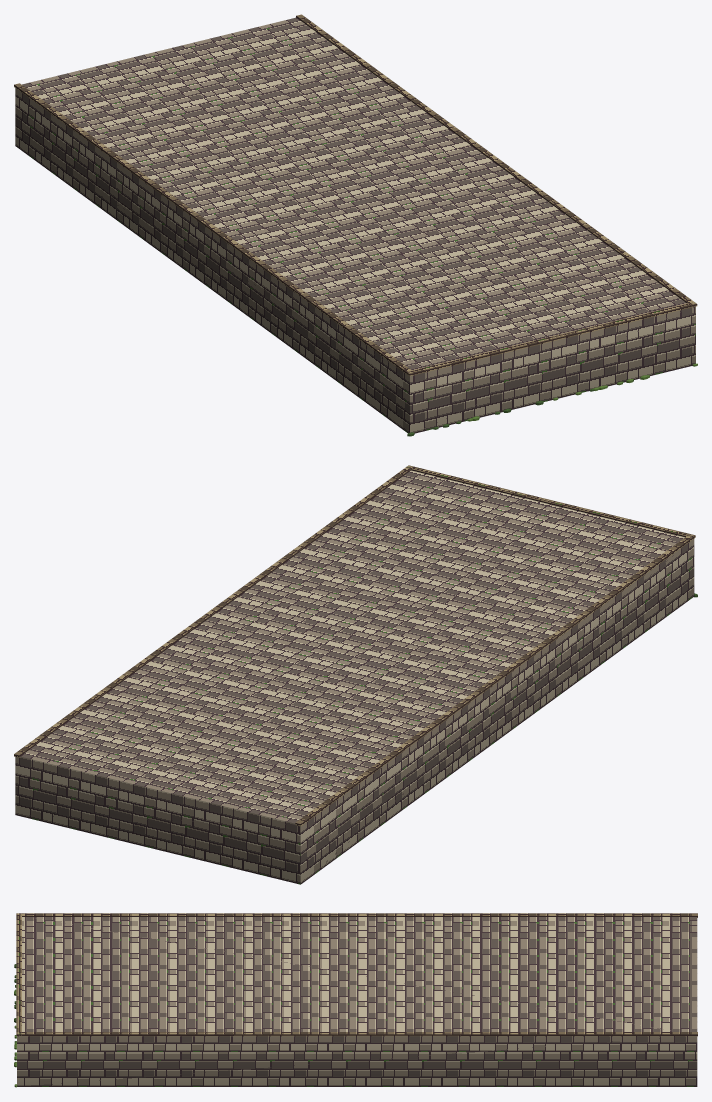
Rendered from scene_wall_e.glb.
3 renders of one model, top to bottom at view 1: azimuth 30°, elevation 25°; view 2: azimuth 150°, elevation 25°; view 3: azimuth 270°, elevation 25°, orthographic. The views are drawn at different scales.
Visible parts, largest first — view 1: scene_wall_e; view 2: scene_wall_e; view 3: scene_wall_e.
Boxes of the visible parts, box(x1,y1,x2,y2) form: scene_wall_e: box(14, 14, 697, 436); scene_wall_e: box(14, 465, 697, 884); scene_wall_e: box(14, 913, 697, 1087).
Size of the model in its own units: 18.28 by 3.77 by 43.24.
2 materials, 1 textured.
